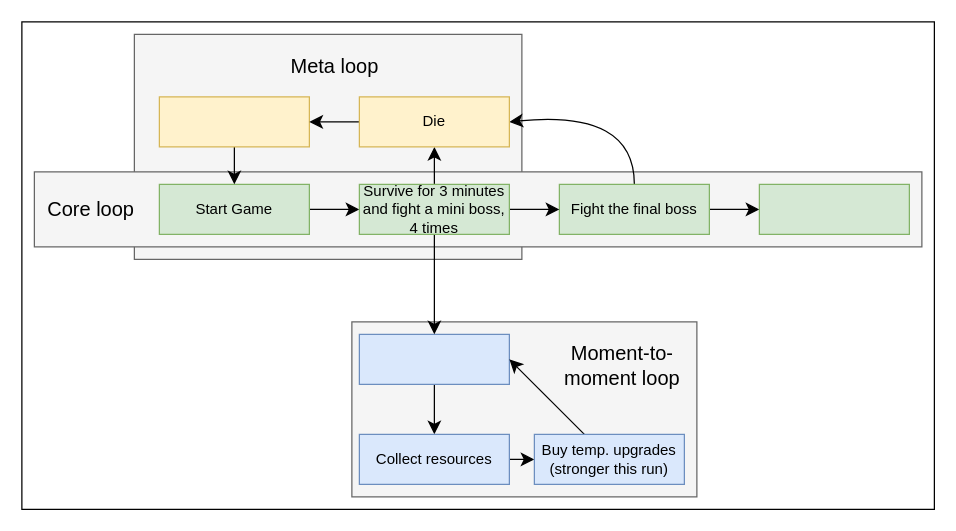
This 956x531 diagram has some shape labels left out. The centre of each missing label's shape, as x and y in pixels:
"Buy permanent unlocks (stronger next run)" goes at [233,121].
"Kill enemies and asteroids" goes at [433,358].
"Win" goes at [833,208].
